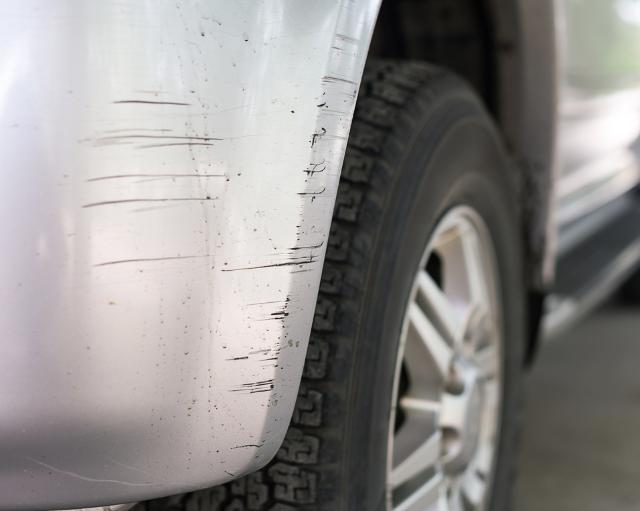Bumper: (38, 32, 345, 435)
